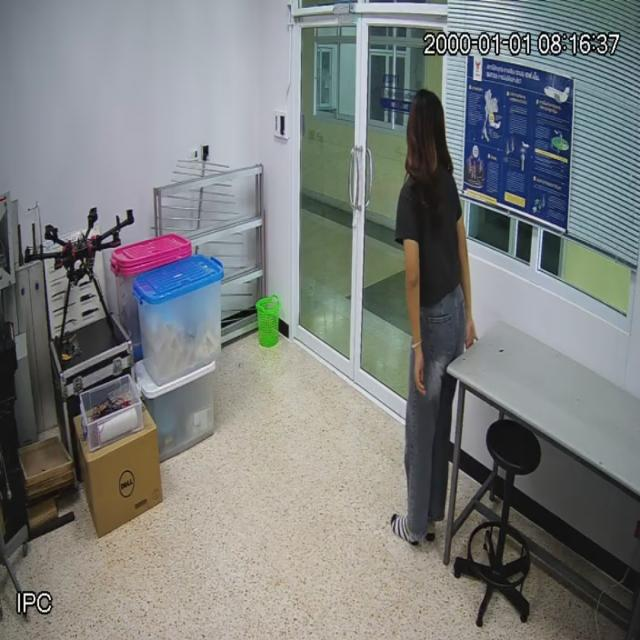normal: (379, 77, 476, 566)
